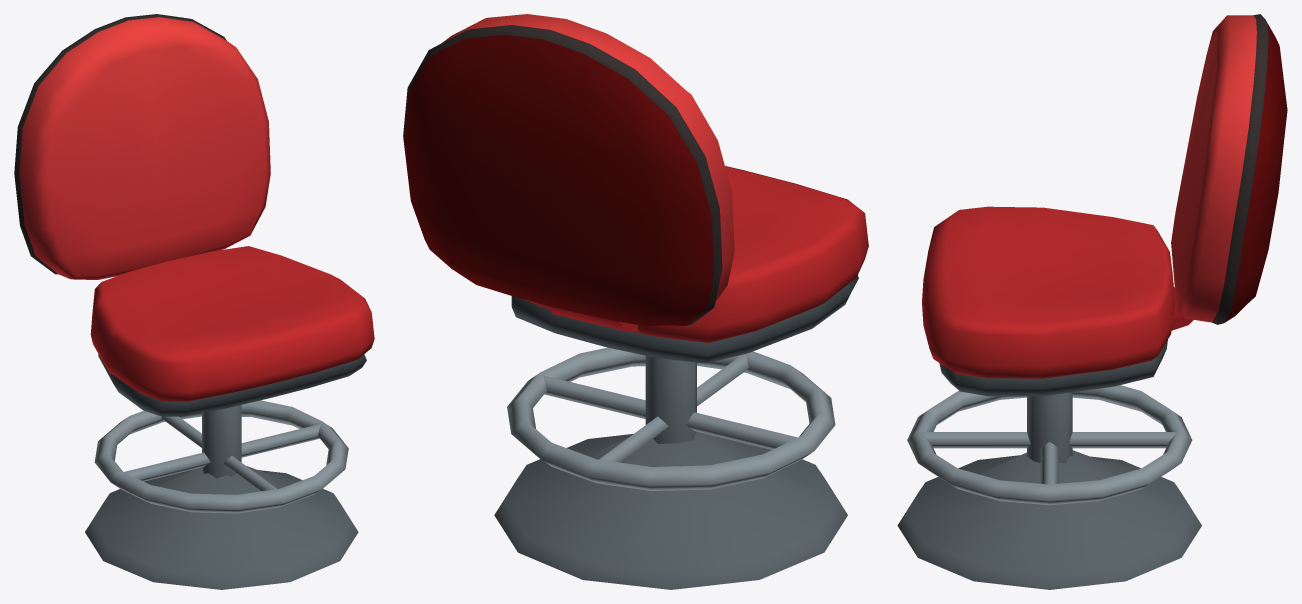
The model's file is Chair_06.obj.
3 renders of one model, left to right at view 1: azimuth 30°, elevation 25°; view 2: azimuth 150°, elevation 25°; view 3: azimuth 270°, elevation 25°, orthographic. The views are drawn at different scales.
Parts seen in each view (by area): view 1: Chair_06; view 2: Chair_06; view 3: Chair_06.
Part boxes in pixels (x1,y1,x2,y2): Chair_06: (14,14,374,589); Chair_06: (403,14,868,589); Chair_06: (897,14,1287,589).
Bounding box in the file's own units: 0.6326 × 1.1 × 0.786.
Materials: 2 (1 with a texture image).
